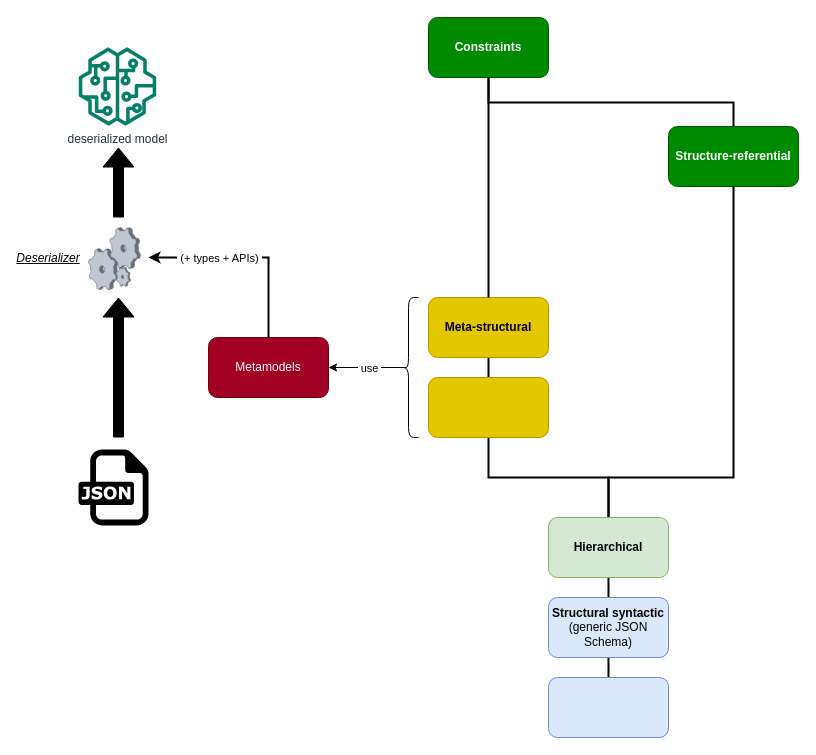
This 816x755 diagram has some shape labels left out. The centre of each missing label's shape, as x and y in pixels:
Low-level syntactic (JSON syntax): (x=608, y=707)
Meta-referential: (x=488, y=407)
serialized model: (x=113, y=487)
